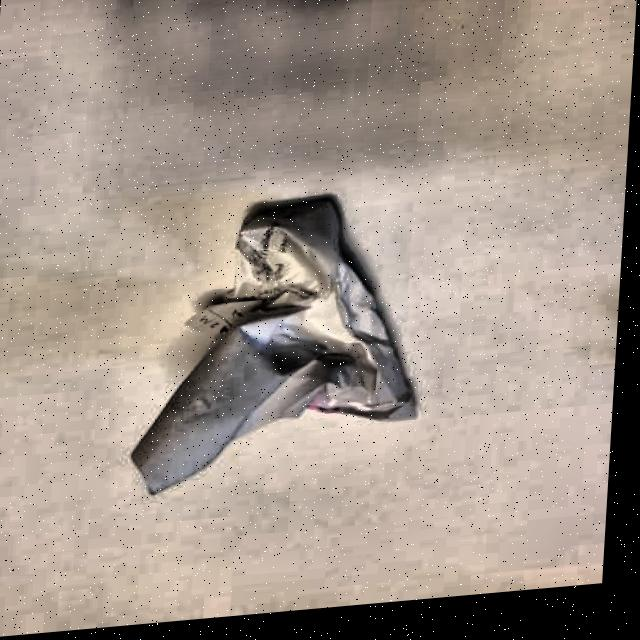paper: (131, 184, 429, 489)
